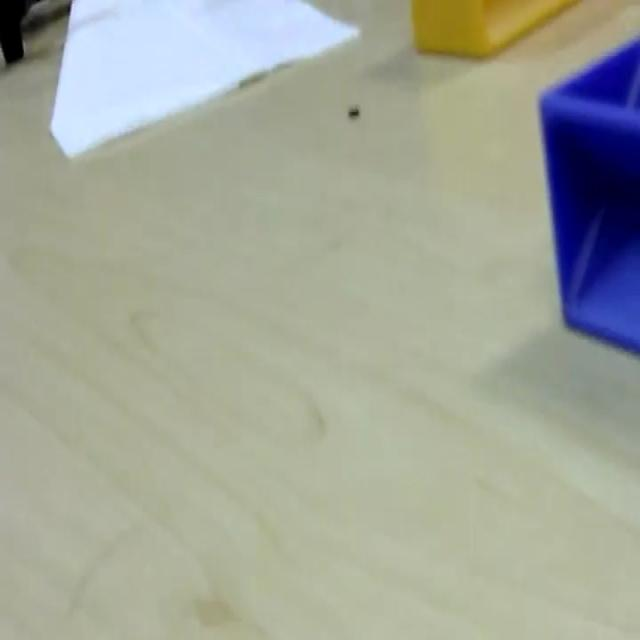blue_block: (536, 32, 638, 355)
yellow_block: (409, 0, 580, 57)
